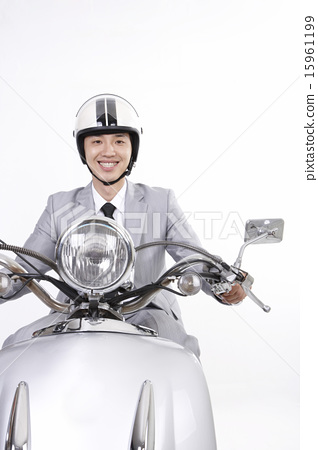helmet: (71, 93, 143, 173)
